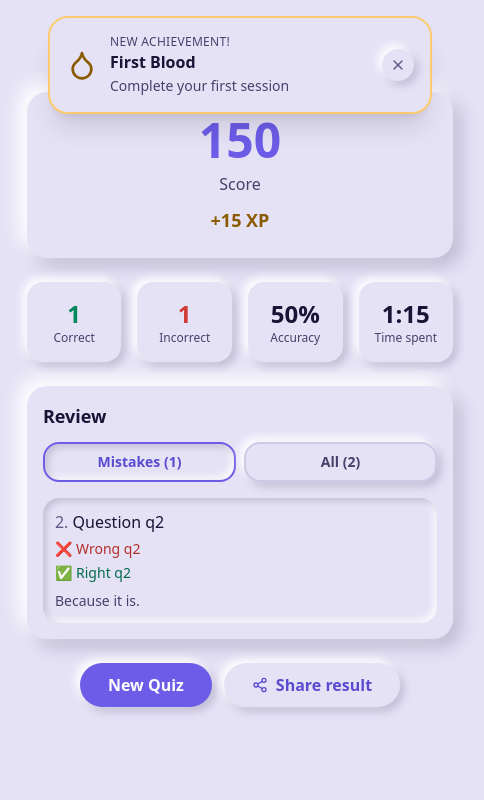
it: ResultsScreen › the All filter adds the correct answers
The width and height of the screenshot is (484, 800).
Click the radio button labelled "All (2)": x=341, y=462 [244,442,437,482]
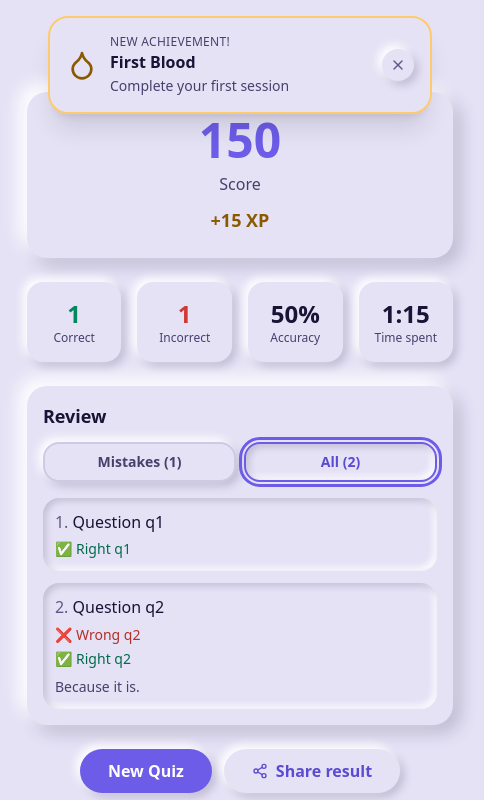
Expected: the number of list items is 2, [43,498,437,571]; [43,583,437,709]
Expected: the text "✅ Right q1" is shown, [55,539,131,558]
